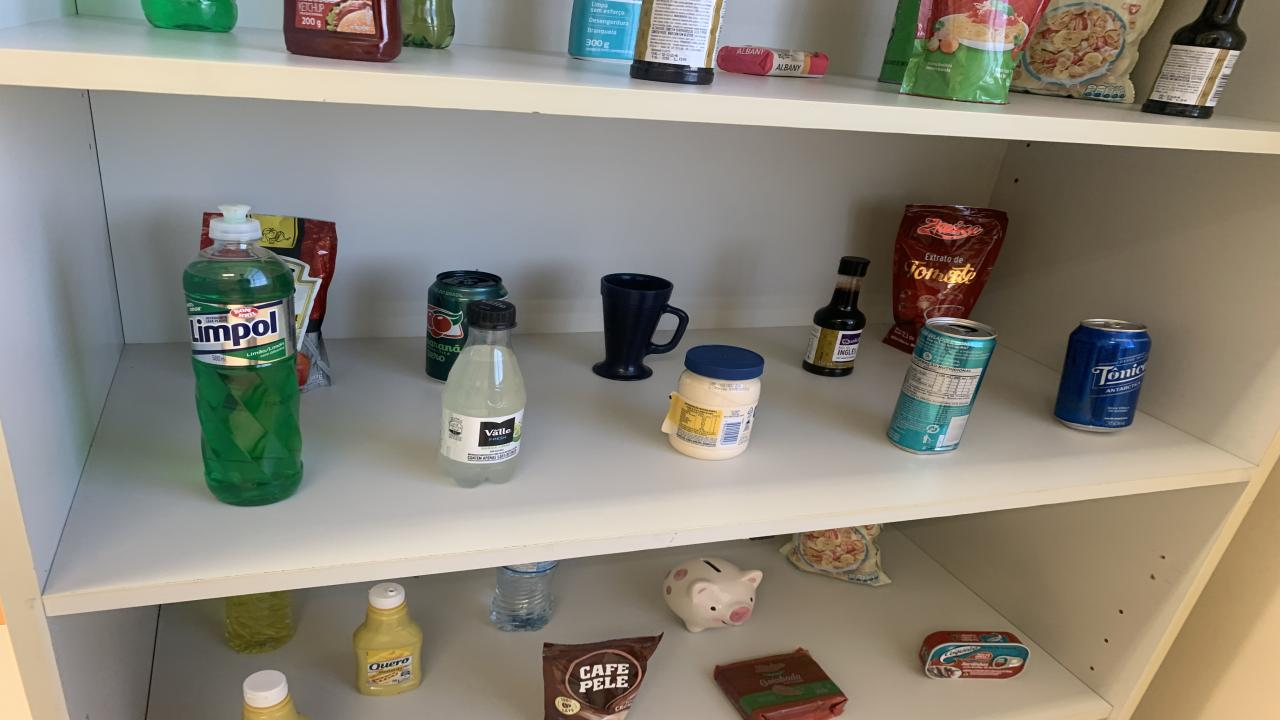Cleaner-Cleanup_Items: (568, 0, 642, 64)
Coffee-Pantry_Items: (542, 634, 662, 720)
Detergent-Cleanup_Items: (182, 204, 302, 506), (225, 591, 295, 654), (140, 0, 238, 32)
English_Sauce-Pantry_Items: (1142, 0, 1245, 118), (802, 257, 870, 377), (630, 0, 725, 84)
Flakes-Snacks: (1010, 0, 1162, 103), (780, 525, 890, 587)
Guarana-Drinks: (402, 0, 455, 49)
Guarana_Can-Drinks: (425, 270, 508, 381)
Guava-Snacks: (712, 649, 848, 720)
Ketchup-Pantry_Items: (285, 0, 402, 62)
Mayonnaise-Pantry_Items: (662, 345, 765, 459)
Mustard-Pantry_Items: (352, 581, 422, 696), (242, 669, 305, 720)
Pig_Safe-Miscellaneous: (662, 557, 762, 632)
Pringles-Snacks: (878, 0, 922, 84)
Soap-Cleanup_Items: (715, 45, 828, 77)
Soda-Drinks: (440, 300, 525, 488)
Tea-Drinks: (888, 317, 998, 454)
Tomato_Sauce-Pantry_Items: (882, 204, 1008, 352), (252, 214, 338, 392), (900, 0, 1048, 103), (200, 212, 220, 249)
Tonic-Drinks: (1055, 319, 1152, 431)
Tuna_Can-Pantry_Items: (920, 630, 1030, 679)
Water_Bottle-Drinks: (490, 561, 558, 632)
